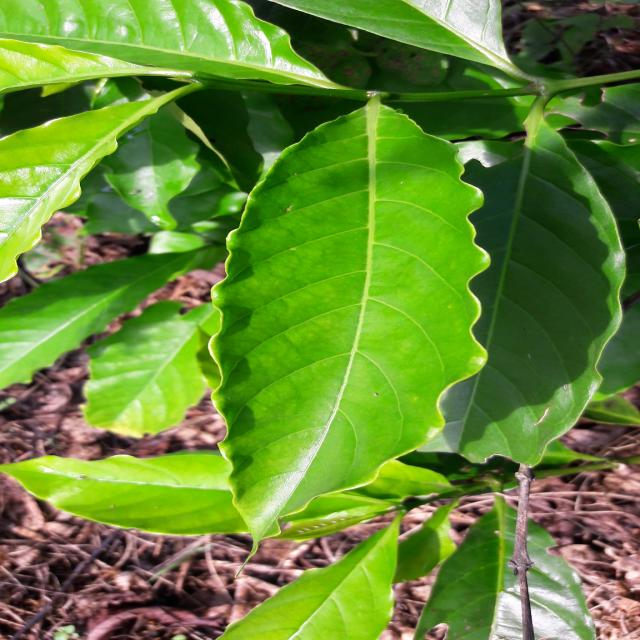Sanas: (206, 96, 491, 543)
